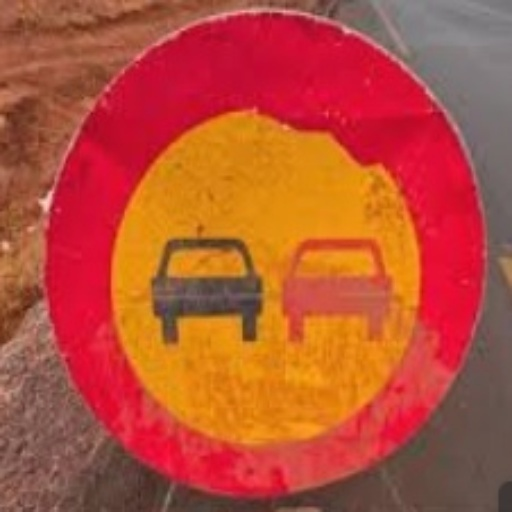No overtake: (28, 35, 477, 489)
